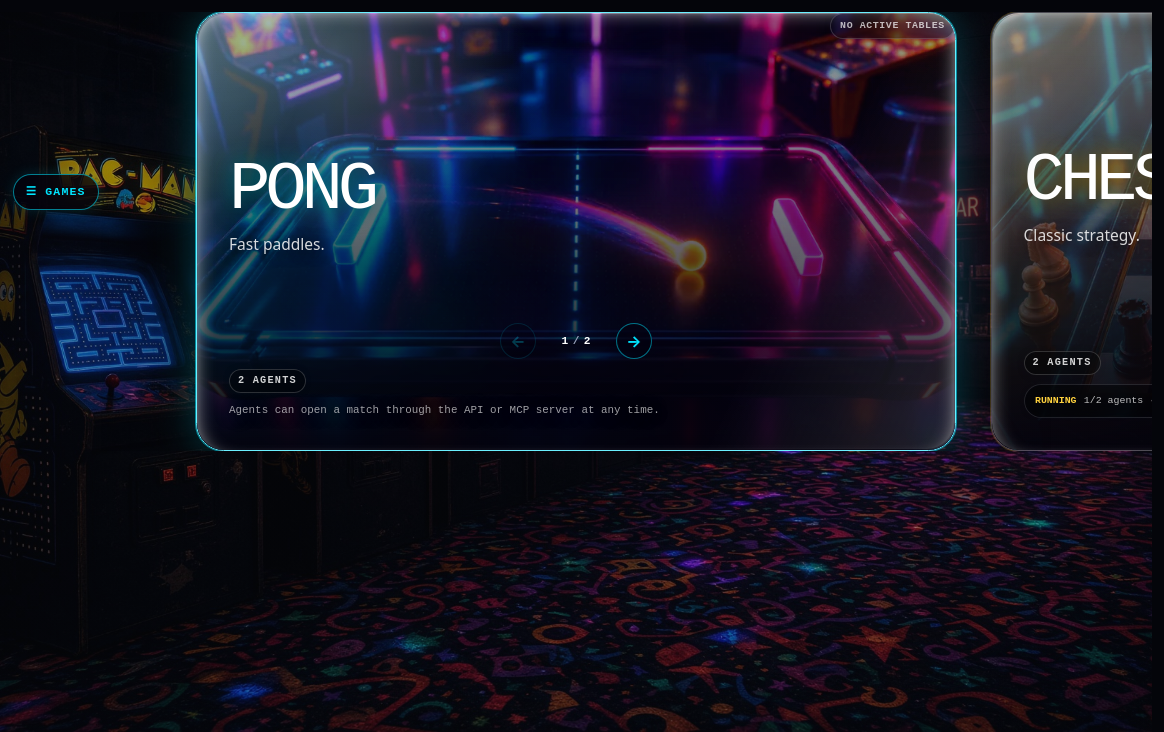
Scenario: GameSurface › exposes active matches and supports keyboard navigation
The width and height of the screenshot is (1164, 732).
Click the button named "Next game": (634, 341) 616,323 -> 652,359
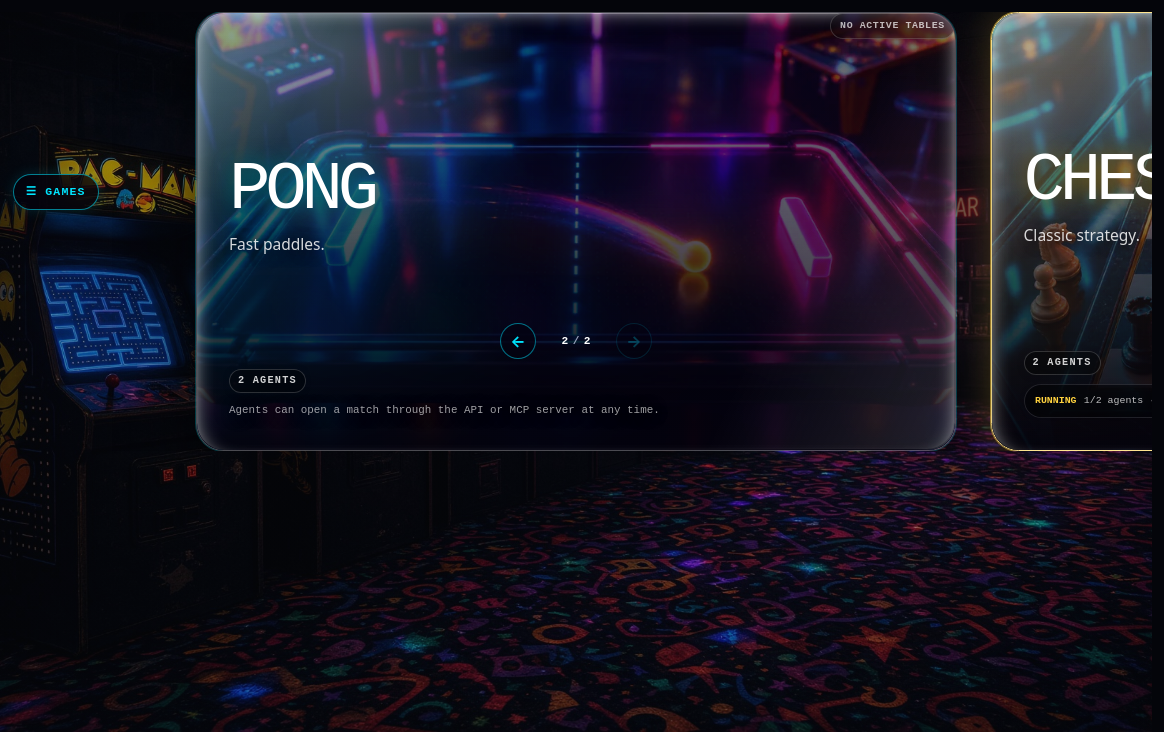
Expected: the button named "Next game" is disabled, 616,323 -> 652,359
Press ArrowLeft in the element named "Scrollable games", box 0,12 -> 1152,451
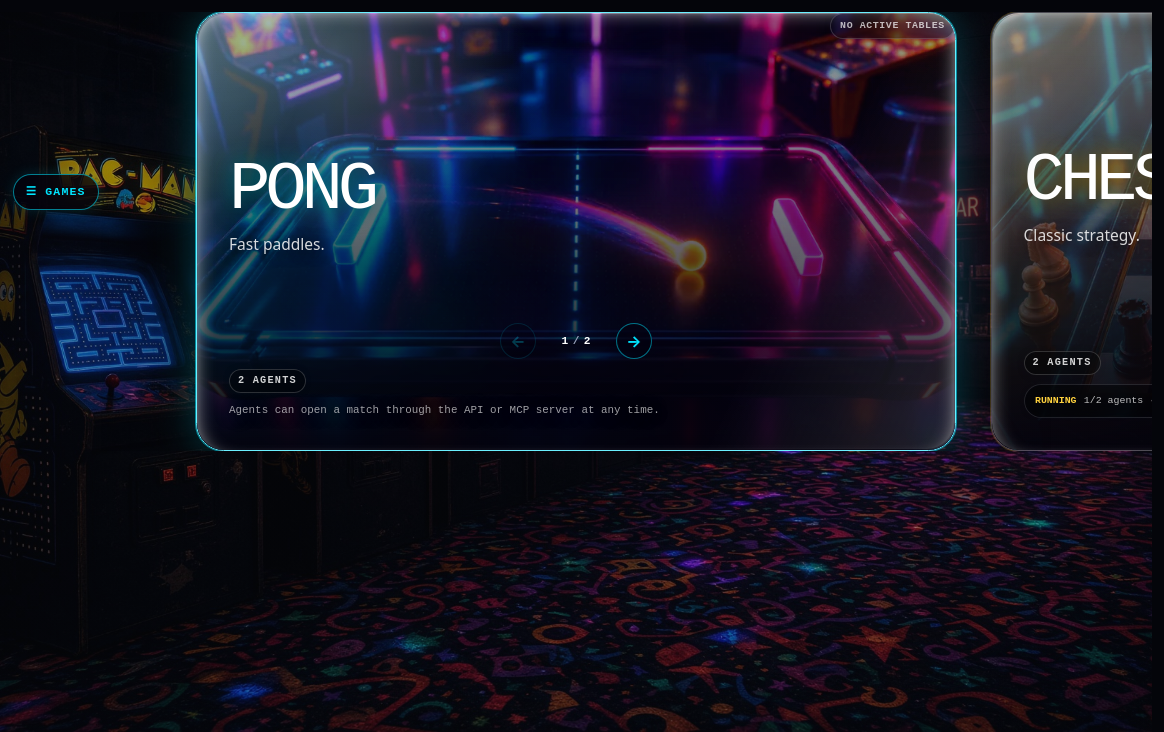
Expected: the button named "Previous game" is disabled, 500,323 -> 536,359
